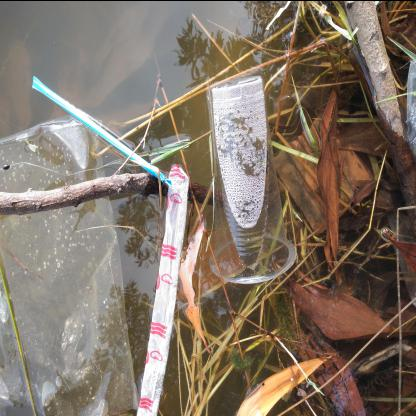plastik: (206, 75, 298, 284), (136, 163, 191, 415)
